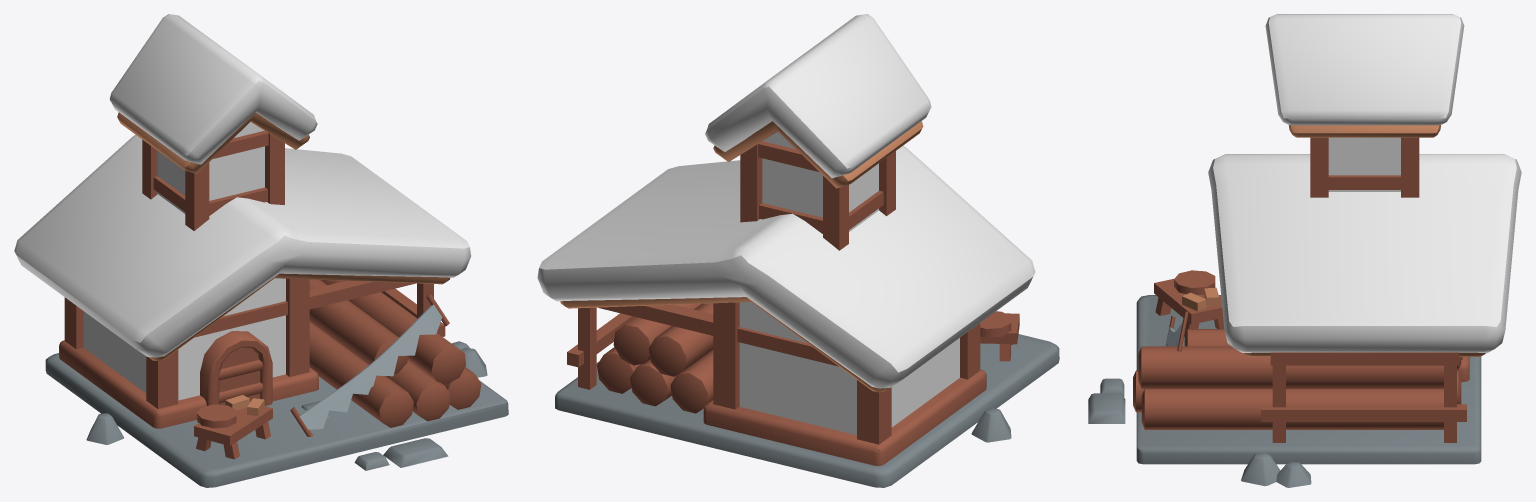
Rendered from lumbermill_snow.gltf.glb.
3 renders of one model, left to right at view 1: azimuth 30°, elevation 25°; view 2: azimuth 150°, elevation 25°; view 3: azimuth 270°, elevation 25°, orthographic. The views are drawn at different scales.
Visible parts, largest first — view 1: lumbermill_snow; view 2: lumbermill_snow; view 3: lumbermill_snow.
Part boxes in pixels (x1,y1,x2,y2): lumbermill_snow: [14, 14, 508, 487]; lumbermill_snow: [537, 14, 1059, 487]; lumbermill_snow: [1088, 14, 1521, 487].
Size of the model in its own units: 1.82 by 1.56 by 1.72.
